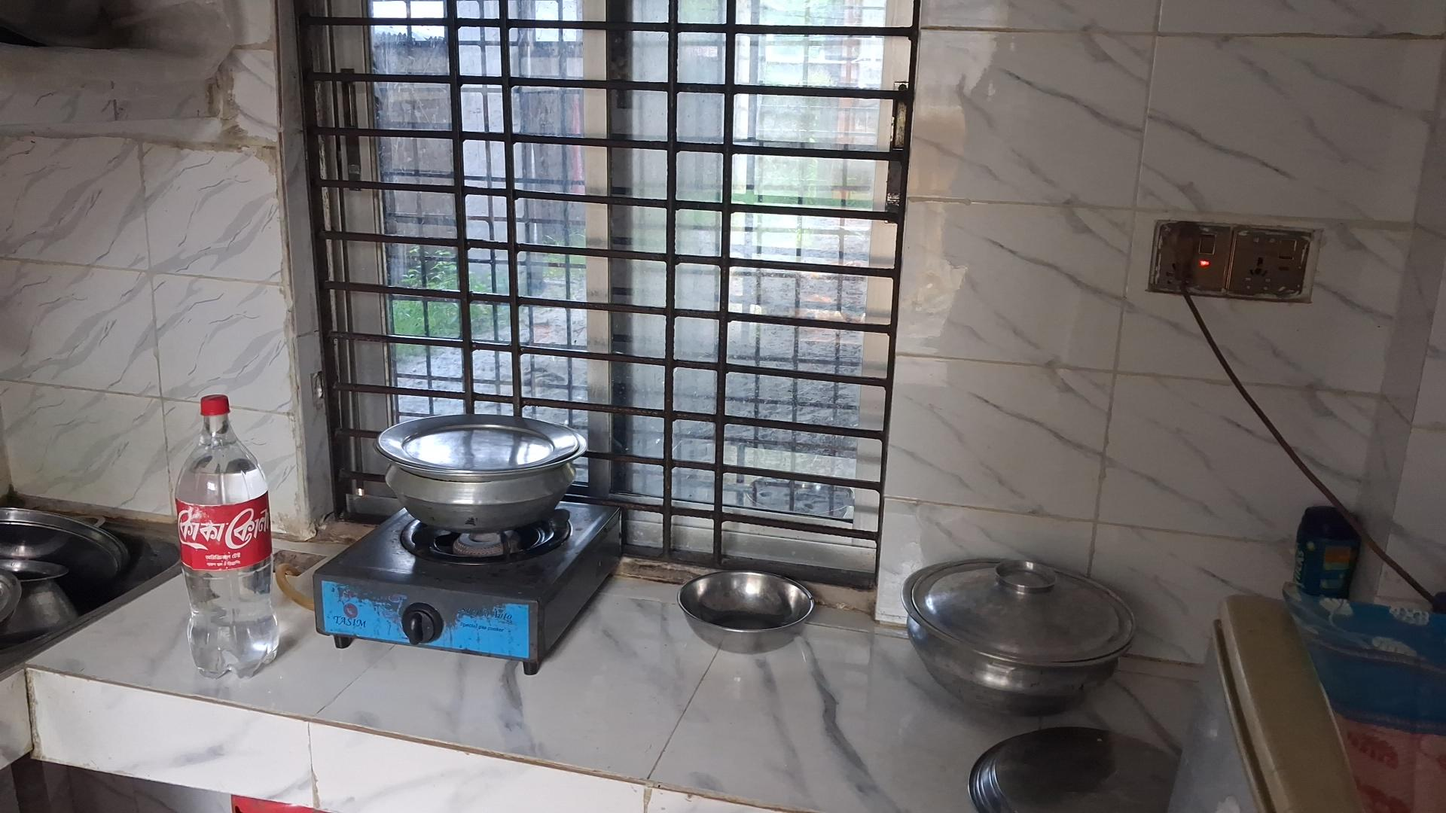Bottle: (173, 393, 281, 678)
Bowl: (678, 570, 816, 656)
Jar: (1293, 504, 1360, 596)
Plate: (967, 731, 1175, 813)
Pot: (901, 554, 1137, 716), (374, 421, 581, 544)
Window: (288, 12, 897, 611)
